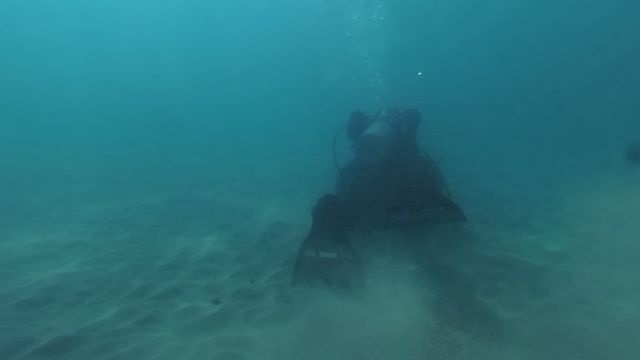Diver: (277, 84, 479, 304)
